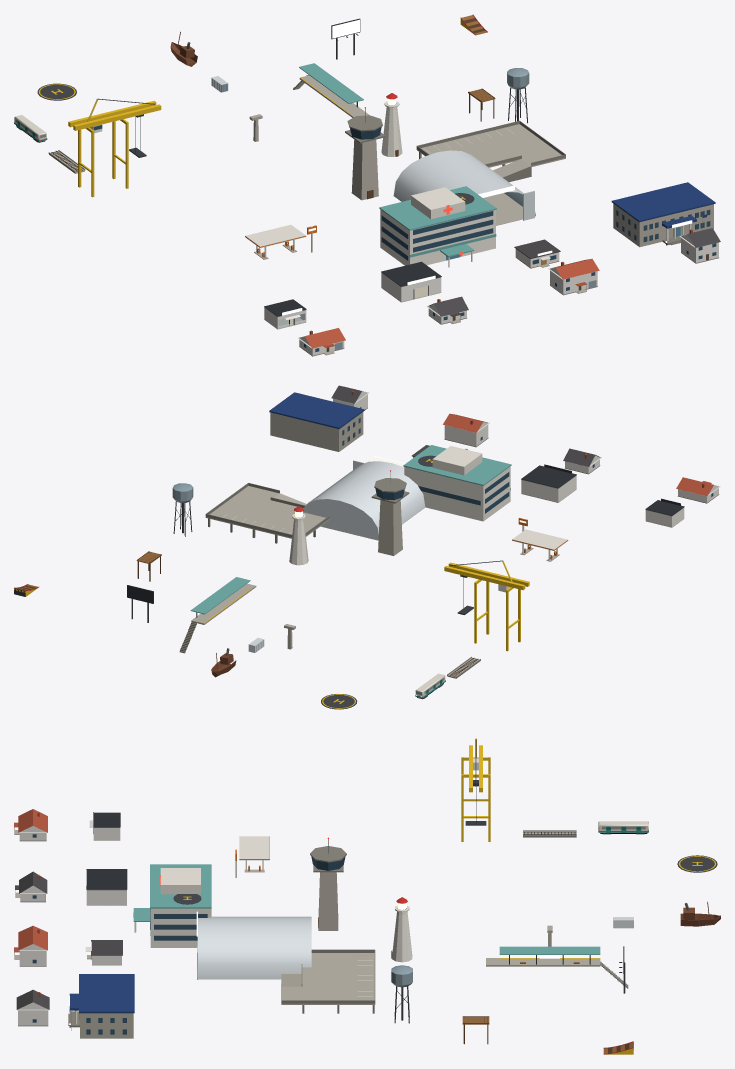
File: kit_landmarks.glb
The picture shows the model from 3 angles, top to bottom: view 1: azimuth 30°, elevation 25°; view 2: azimuth 150°, elevation 25°; view 3: azimuth 270°, elevation 25°; orthographic projection. The views are drawn at different scales.
Parts seen in each view (by area): view 1: bld_hospital, bld_hangar, bld_police, bld_parking, bld_crane, bld_control_tower, bld_garage, rail_station, bld_house_c, bld_gas_canopy, bld_house_d, bld_lighthouse (+6 smaller); view 2: bld_hospital, bld_hangar, bld_police, bld_parking, bld_crane, bld_control_tower, bld_garage, rail_station, bld_house_c, bld_gas_canopy, bld_shop, bld_lighthouse (+4 smaller); view 3: bld_hangar, bld_hospital, bld_parking, bld_police, rail_station, bld_control_tower, bld_garage, bld_crane, bld_house_c, bld_house_d, bld_lighthouse, bld_gas_canopy (+8 smaller).
Part boxes in pixels (x1,y1,x2,y2): bld_hospital: (379,186,496,267); bld_hangar: (393,150,535,225); bld_police: (611,182,715,247); bld_parking: (416,120,565,182); bld_crane: (68,98,161,197); bld_control_tower: (345,107,385,200); bld_garage: (381,261,441,302); rail_station: (293,63,369,117); bld_house_c: (548,258,599,295); bld_gas_canopy: (245,224,316,259); bld_house_d: (679,228,720,263); bld_lighthouse: (381,93,402,156); bld_hospital: (403,445,511,521); bld_hangar: (303,455,425,540); bld_police: (269,392,364,451); bld_parking: (205,483,329,543); bld_crane: (444,560,529,651); bld_control_tower: (371,470,409,555); bld_garage: (521,464,576,502); rail_station: (179,577,256,653); bld_house_c: (443,413,489,447); bld_gas_canopy: (512,517,568,561); bld_shop: (645,498,684,527); bld_lighthouse: (289,506,308,565); bld_hangar: (196,911,311,979); bld_hospital: (133,864,211,947); bld_parking: (281,949,375,1013); bld_police: (68,974,134,1038); rail_station: (486,946,628,988); bld_control_tower: (310,837,346,930); bld_garage: (86,869,127,905); bld_crane: (461,738,490,841); bld_house_c: (14,925,47,966); bld_house_d: (16,989,49,1026); bld_lighthouse: (391,897,412,962); bld_gas_canopy: (235,836,269,877).
Size of the model in its own units: 167 by 38.81 by 211.
